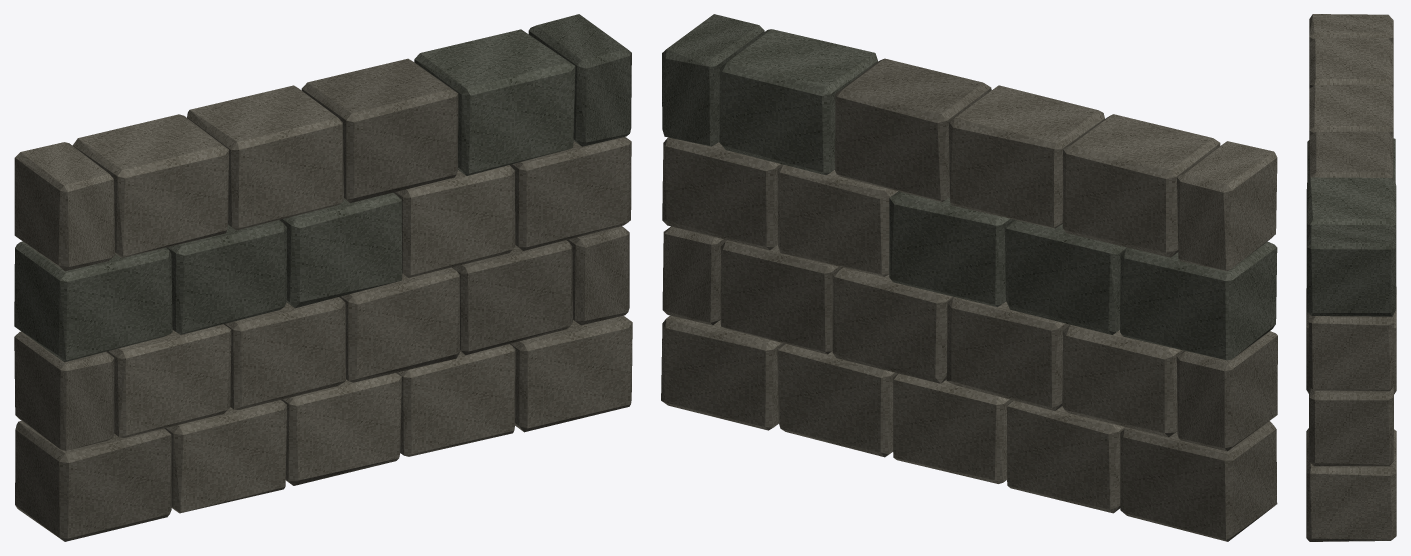
Rendered from env_ruin_walls_02_half_wall.glb.
The picture shows the model from 3 angles, left to right: view 1: azimuth 30°, elevation 25°; view 2: azimuth 150°, elevation 25°; view 3: azimuth 270°, elevation 25°; orthographic projection. The views are drawn at different scales.
Bounding box in the file's own units: 1.99 × 1.19 × 0.3261.
1 material, 1 textured.
